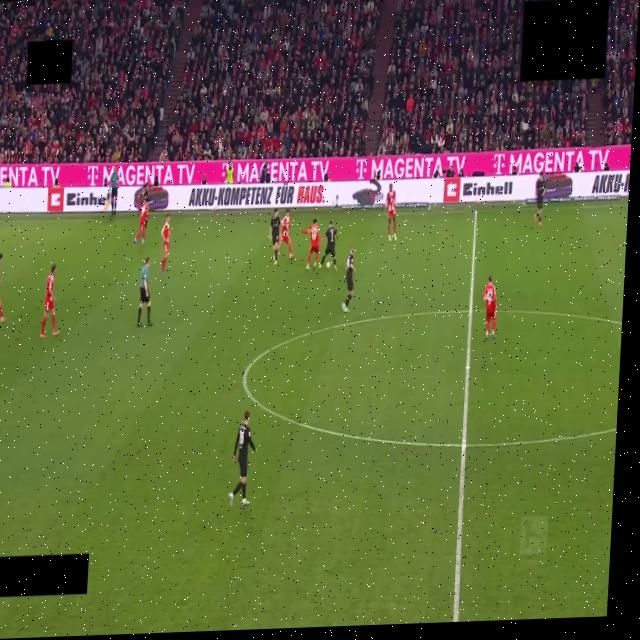ball: (326, 261, 330, 268)
player: (229, 411, 256, 505), (40, 264, 59, 338), (301, 219, 320, 270), (319, 221, 337, 270), (483, 276, 496, 339), (342, 246, 354, 313), (278, 211, 293, 259), (386, 184, 397, 240), (134, 202, 148, 244), (270, 209, 280, 264), (535, 174, 545, 227), (161, 216, 170, 273), (0, 254, 2, 279)
referee: (138, 257, 152, 326)
